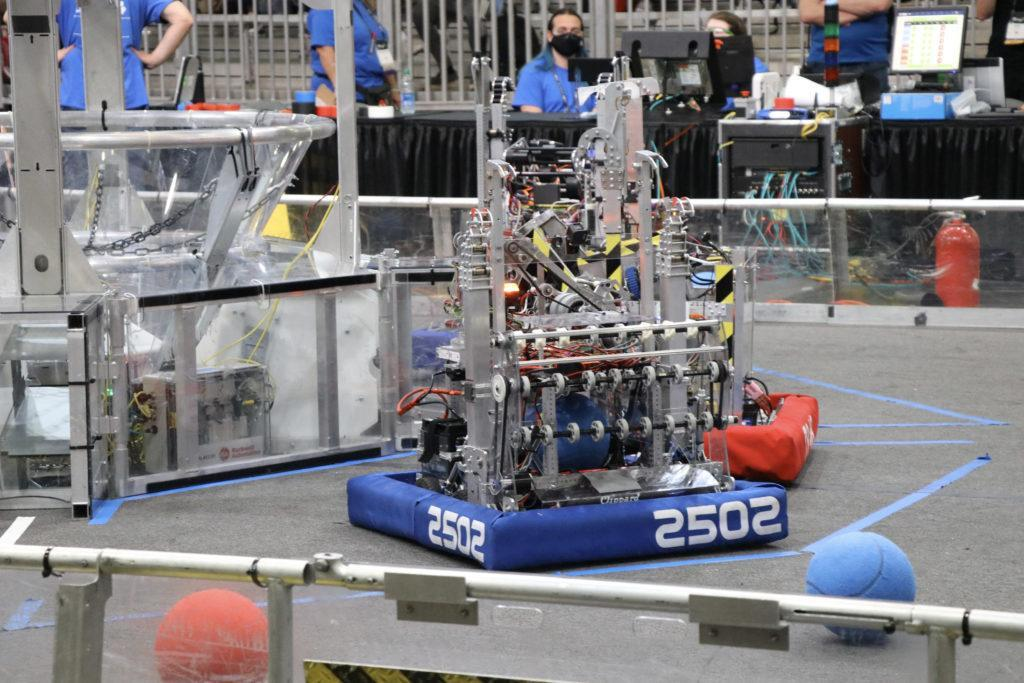robot: (343, 49, 793, 569), (600, 199, 828, 489)
